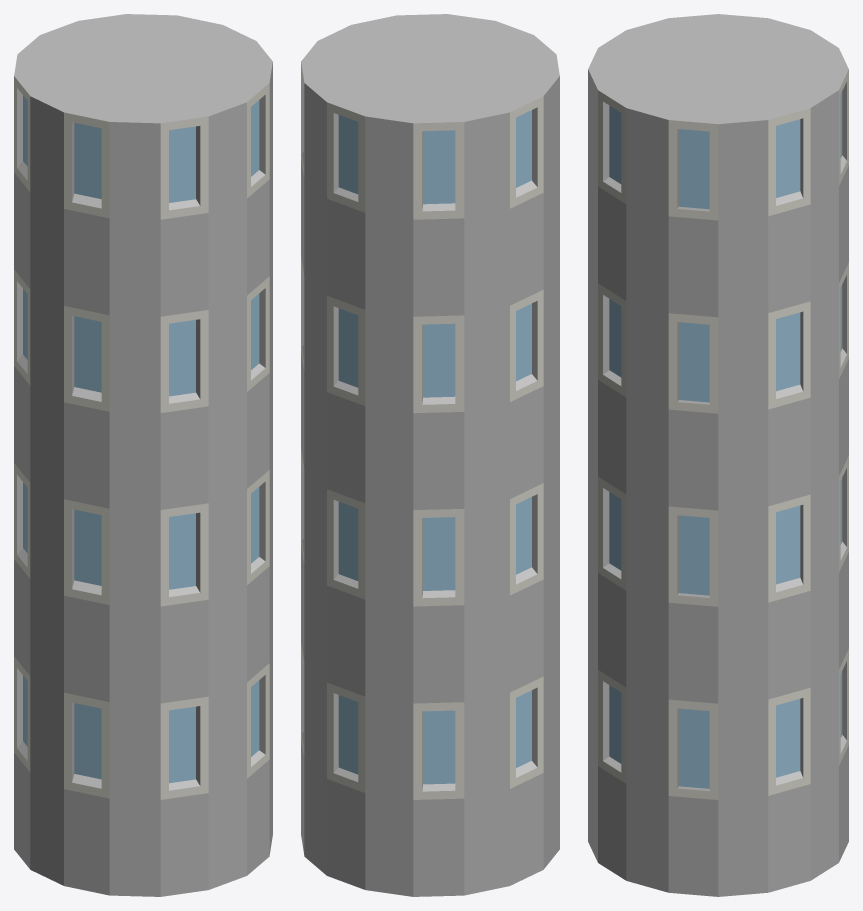
Rendered from MainBuild.fbx.
3 views of the same model, side by side, from view 1: azimuth 30°, elevation 25°; view 2: azimuth 150°, elevation 25°; view 3: azimuth 270°, elevation 25° (orthographic).
Parts seen in each view (by area): view 1: Círculo.002, Círculo, Círculo.003, Círculo.001; view 2: Círculo.002, Círculo, Círculo.003, Círculo.001; view 3: Círculo.002, Círculo, Círculo.001, Círculo.003.
Part boxes in pixels (left/top/right/bottom): Círculo.002: left=14, top=14, right=272, bottom=316; Círculo: left=14, top=642, right=272, bottom=896; Círculo.003: left=14, top=255, right=272, bottom=509; Círculo.001: left=14, top=449, right=272, bottom=703; Círculo.002: left=301, top=14, right=559, bottom=316; Círculo: left=301, top=642, right=559, bottom=896; Círculo.003: left=301, top=255, right=559, bottom=509; Círculo.001: left=301, top=449, right=559, bottom=703; Círculo.002: left=588, top=14, right=848, bottom=317; Círculo: left=588, top=649, right=848, bottom=896; Círculo.001: left=588, top=456, right=848, bottom=703; Círculo.003: left=588, top=262, right=848, bottom=510.
Size of the model in its own units: 2 by 6.54 by 2.
